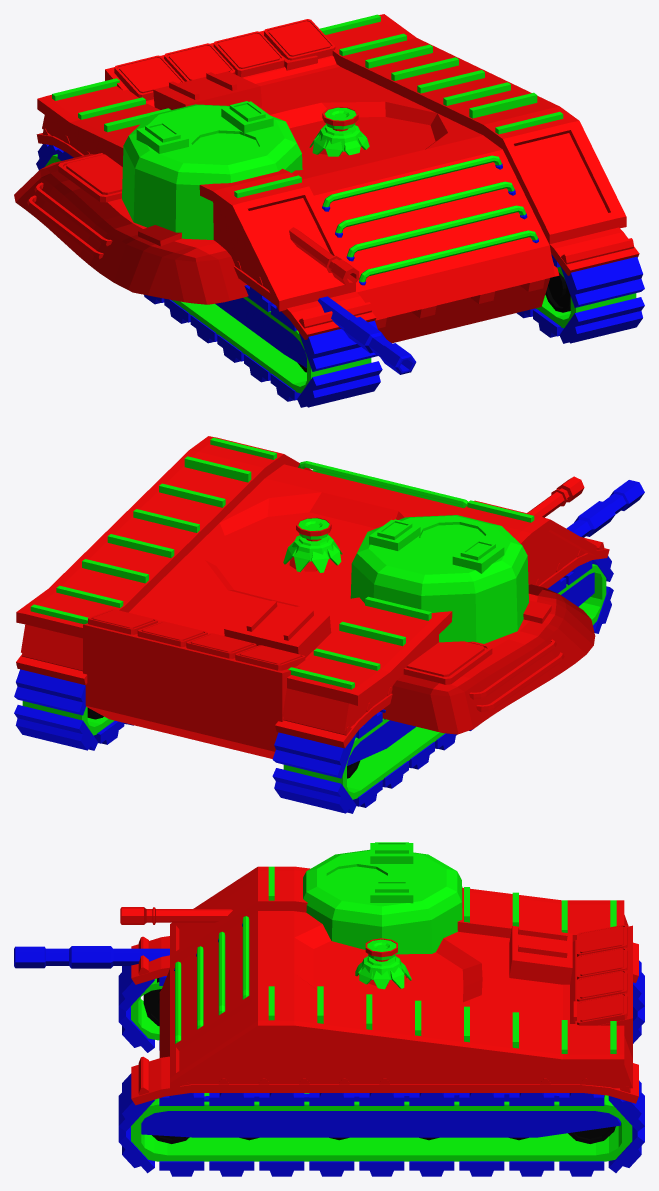
Rendered from voltaris-ground-units.glb.
3 renders of one model, top to bottom at view 1: azimuth 30°, elevation 25°; view 2: azimuth 150°, elevation 25°; view 3: azimuth 270°, elevation 25°, orthographic. The views are drawn at different scales.
Visible parts, largest first — view 1: ground_01, ground_06, ground_07; view 2: ground_01, ground_06, ground_07; view 3: ground_01, ground_06, ground_07.
Part boxes in pixels (box(x1,y1,x2,y2)): ground_01: box(37, 14, 643, 407); ground_06: box(14, 19, 644, 407); ground_07: box(309, 106, 369, 156); ground_01: box(14, 436, 606, 813); ground_06: box(15, 480, 644, 813); ground_07: box(283, 517, 342, 572); ground_01: box(119, 842, 644, 1176); ground_06: box(14, 924, 644, 1167); ground_07: box(355, 938, 411, 989).
Size of the model in its own units: 12.93 by 5.45 by 17.68.
